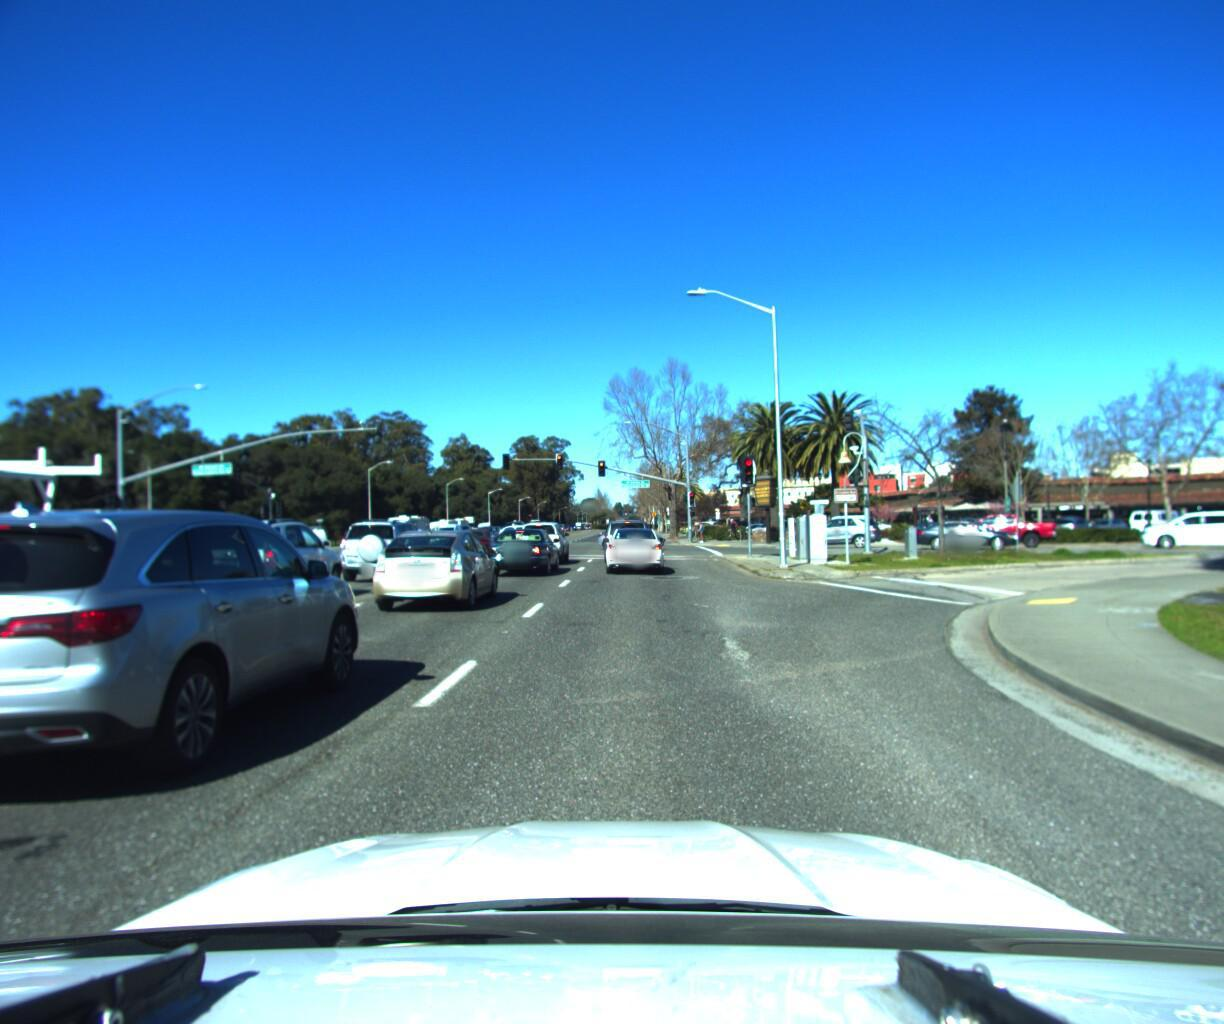bus: (0, 508, 80, 567)
car: (0, 502, 373, 864), (171, 518, 353, 616), (362, 526, 502, 619), (331, 520, 437, 588), (937, 506, 1056, 546), (483, 527, 560, 580), (1126, 503, 1224, 545), (788, 509, 892, 547), (908, 515, 1018, 549), (599, 522, 665, 577), (516, 517, 570, 566), (600, 514, 650, 563), (447, 523, 505, 561)
other_vehicle: (0, 219, 126, 1024), (433, 521, 466, 543)
truck: (268, 524, 335, 551)
